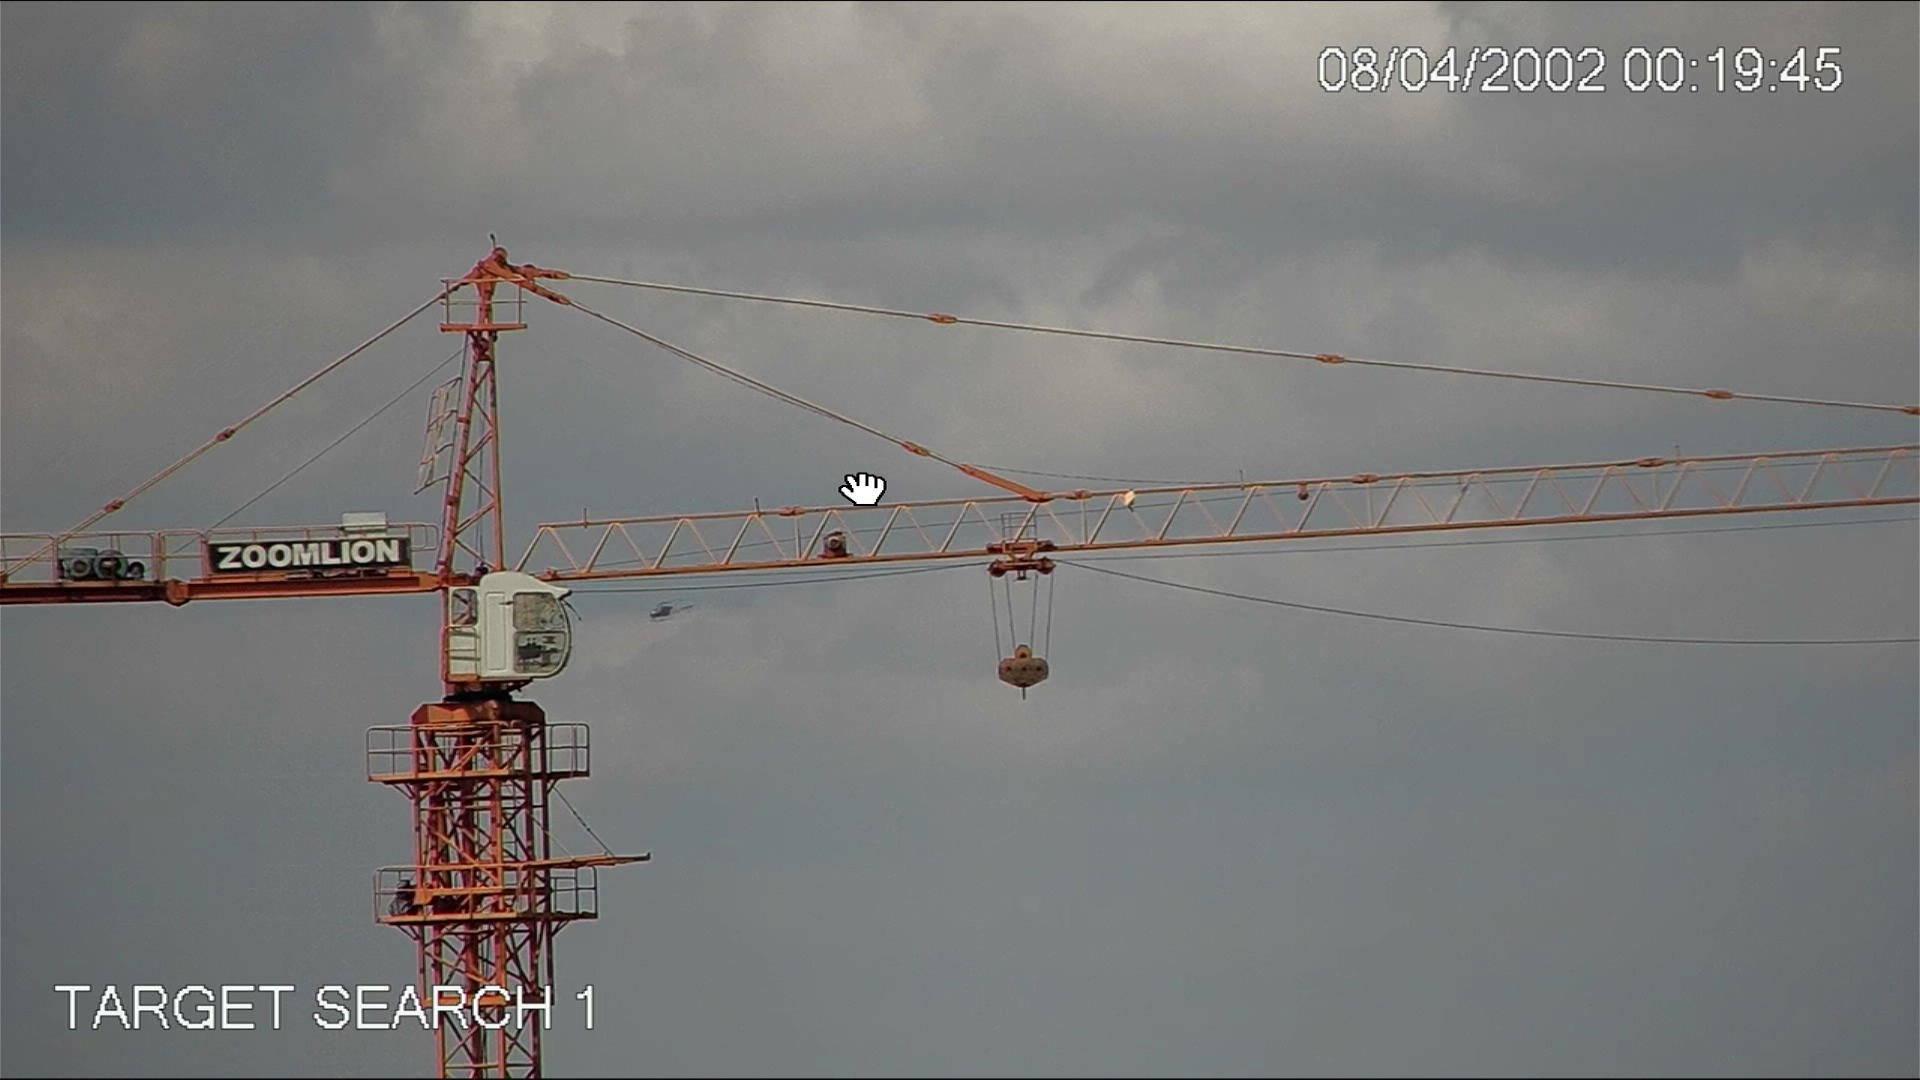SU_30: (647, 596, 698, 626)
